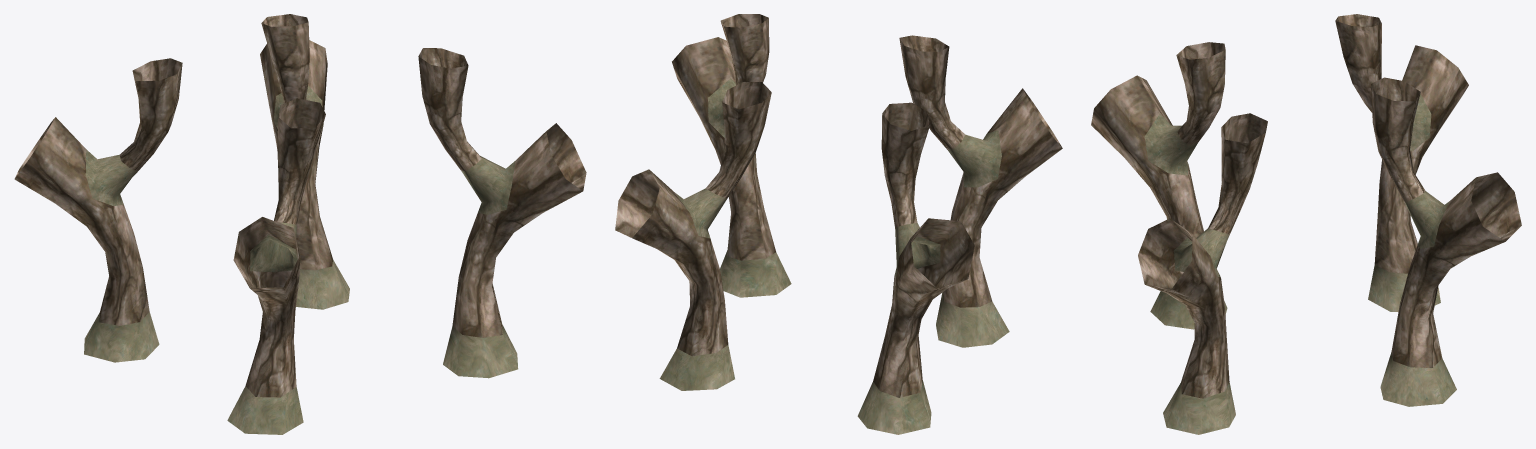
Rendered from EKH_JAIL_PS_JA_OUB_PILLARS746__GX.fbx.
3 views of the same model, side by side, from view 1: azimuth 30°, elevation 25°; view 2: azimuth 150°, elevation 25°; view 3: azimuth 270°, elevation 25° (orthographic). The views are drawn at different scales.
Parts seen in each view (by area): view 1: EKH_JAIL_PS_JA_OUB_PILLARS746__GX; view 2: EKH_JAIL_PS_JA_OUB_PILLARS746__GX; view 3: EKH_JAIL_PS_JA_OUB_PILLARS746__GX.
Boxes of the visible parts, left/top/right/bottom form: EKH_JAIL_PS_JA_OUB_PILLARS746__GX: left=14, top=14, right=586, bottom=434; EKH_JAIL_PS_JA_OUB_PILLARS746__GX: left=615, top=14, right=1062, bottom=434; EKH_JAIL_PS_JA_OUB_PILLARS746__GX: left=1091, top=14, right=1521, bottom=434.
Size of the model in its own units: 99142 by 64171 by 87197.
2 materials, 2 textured.
